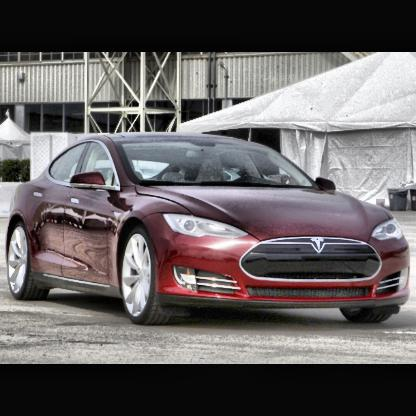Tesla Model S Sedan 2012: (5, 132, 414, 329)
